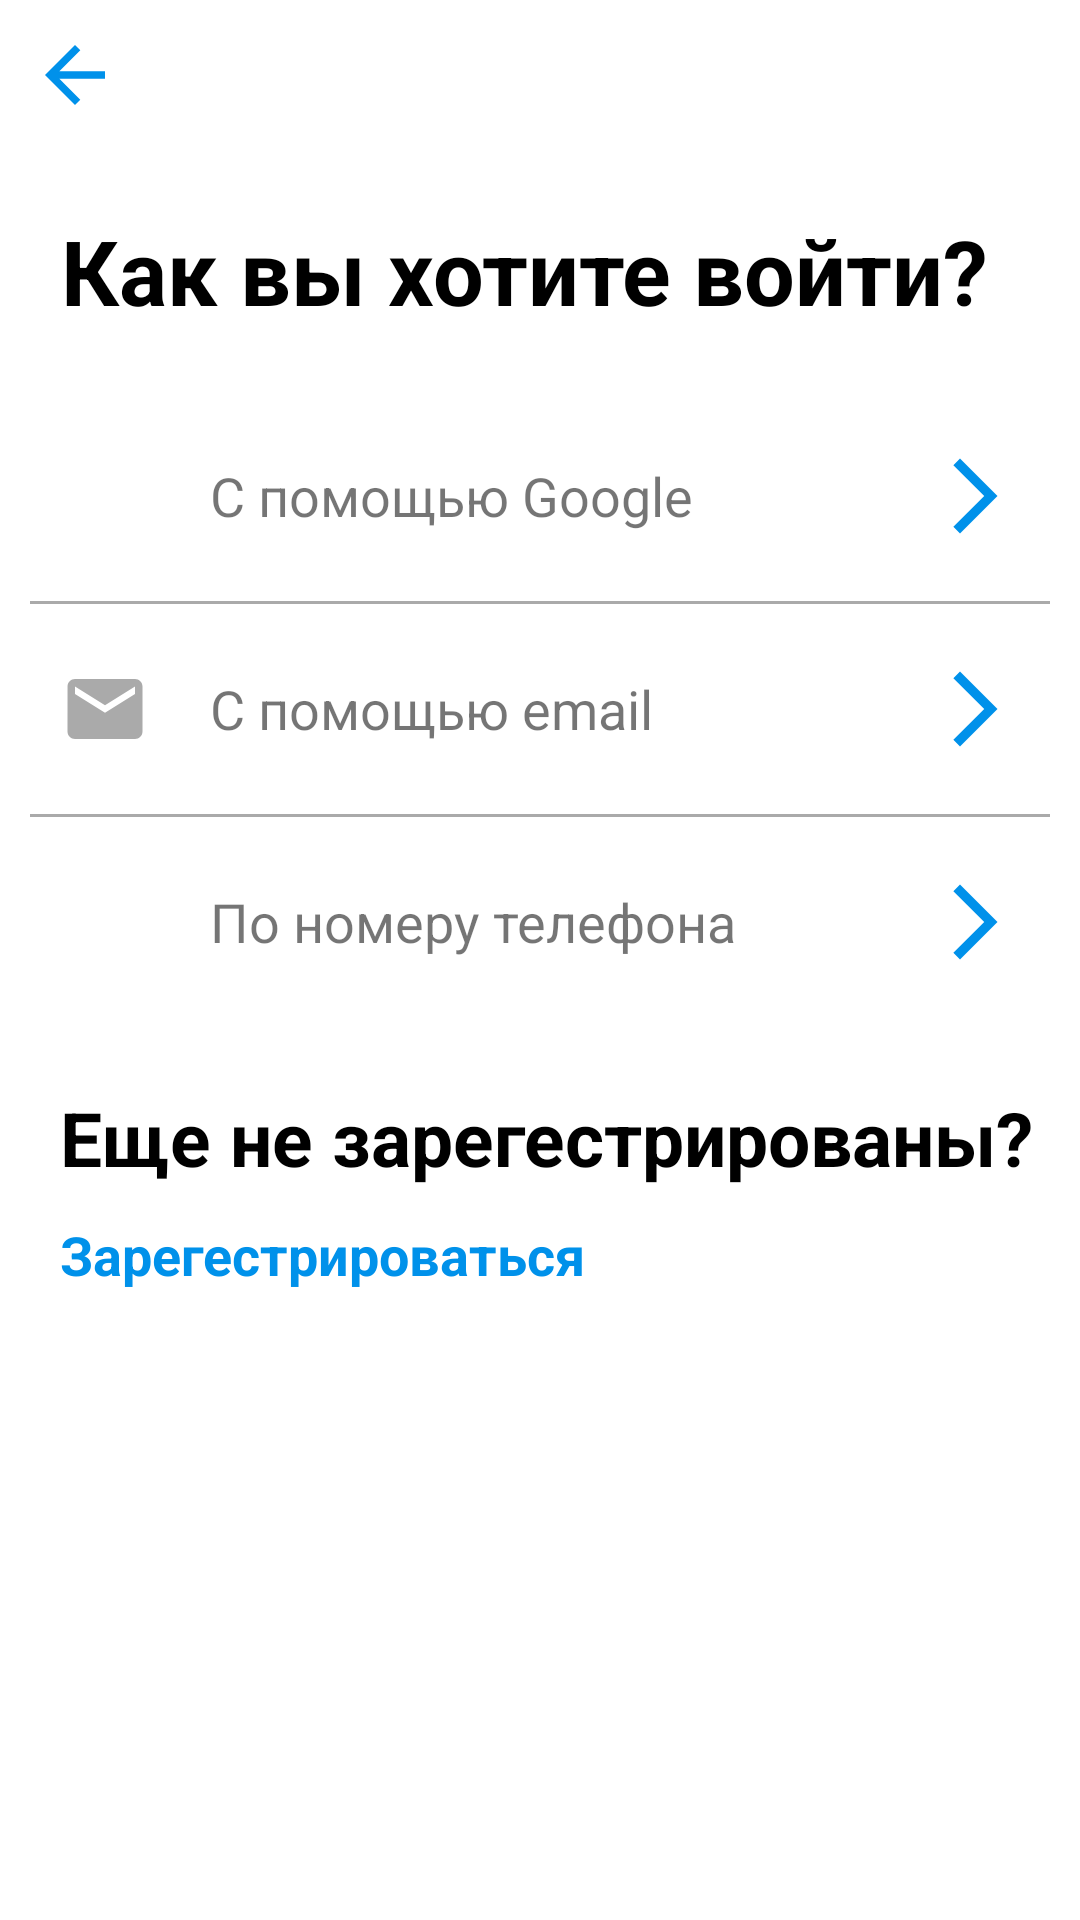

Where to tap for icons on this 1080px×1920px app screen, as (x,y):
back: (75,75)
forward: (975,496), (975,709), (975,922)
